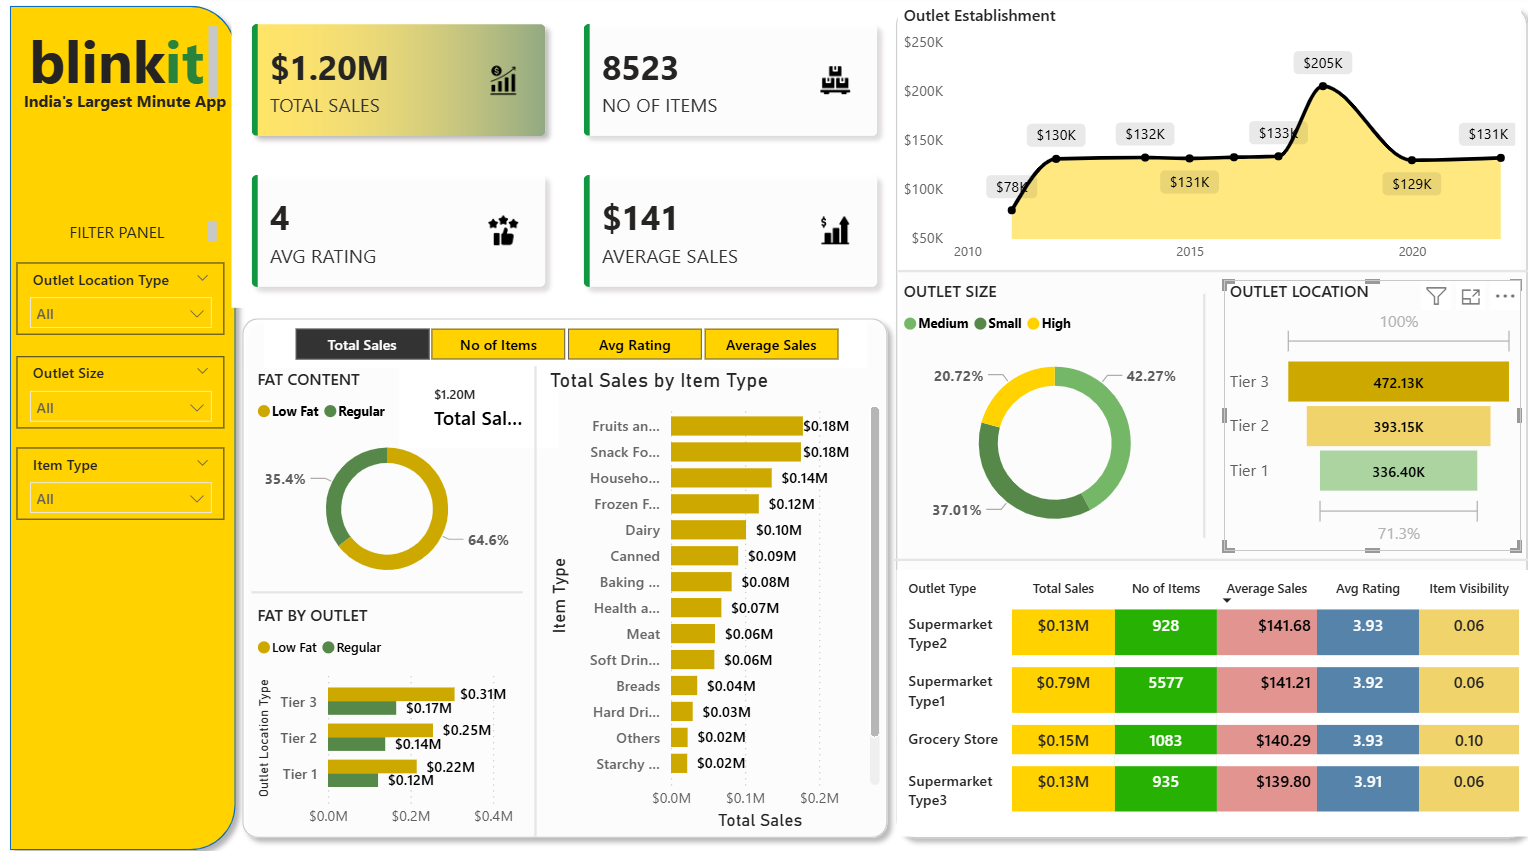

The page's visual inventory and layout, read from the dashboard file:
{"tool":"powerbi","page":{"name":"Page 1","canvas":[1280,720],"ordinal":0},"visuals":[{"type":"shape","box":[0,0,205.7,720],"z":0},{"type":"textbox","box":[20,18.6,167.1,71.4],"z":1000},{"type":"textbox","box":[15.7,74.3,190,31.4],"z":2000},{"type":"cardVisual","fields":{"Data":["BlinkIT Grocery Data.Total Sales","BlinkIT Grocery Data.No of Items","BlinkIT Grocery Data.Avg Rating","BlinkIT Grocery Data.Average Sales","BlinkIT Grocery Data.Total Sales"]},"box":[192.9,7.1,554.3,252.9],"z":3000},{"type":"shape","box":[192.9,260,554.3,450],"z":4000},{"type":"donutChart","title":"FAT CONTENT","fields":{"Y":["BlinkIT Grocery Data.Total Sales"],"Category":["BlinkIT Grocery Data.Item Fat Content"]},"box":[210,310,225.7,190],"z":5000},{"type":"slicer","fields":{"Values":["Metrics.Metrics"]},"box":[220,270,501.4,40],"z":6000},{"type":"cardVisual","fields":{"Data":["BlinkIT Grocery Data.Total Sales","BlinkIT Grocery Data.Total Sales"]},"box":[332.9,310,132.9,67.1],"z":7000},{"type":"clusteredBarChart","title":"FAT BY OUTLET","fields":{"Y":["BlinkIT Grocery Data.Total Sales"],"Category":["BlinkIT Grocery Data.Outlet Location Type"],"Series":["BlinkIT Grocery Data.Item Fat Content"]},"box":[210,505.7,234.3,194.3],"z":8000},{"type":"shape","box":[210,490,225.7,14.3],"z":9000},{"type":"shape","box":[440,308.6,12.9,391.4],"z":10000},{"type":"barChart","fields":{"Y":["BlinkIT Grocery Data.Total Sales"],"Category":["BlinkIT Grocery Data.Item Type"]},"box":[452.9,310,284.3,390],"z":11000},{"type":"shape","box":[737.1,0,542.9,710],"z":12000},{"type":"lineChart","title":" Outlet Establishment ","fields":{"Y":["BlinkIT Grocery Data.Total Sales"],"Category":["BlinkIT Grocery Data.Outlet Establishment Year"]},"box":[747.1,7.1,518.6,222.9],"z":13000},{"type":"shape","box":[747.1,222.9,527.1,14.3],"z":14000},{"type":"donutChart","title":"OUTLET SIZE","fields":{"Y":["BlinkIT Grocery Data.Total Sales"],"Category":["BlinkIT Grocery Data.Outlet Size"]},"box":[747.1,237.1,261.4,225.7],"z":15000},{"type":"shape","box":[995.7,248.6,12.9,202.9],"z":16000},{"type":"funnel","title":"OUTLET LOCATION","fields":{"Y":["Sum(BlinkIT Grocery Data.Sales)"],"Category":["BlinkIT Grocery Data.Outlet Location Type"]},"box":[1018.6,237.1,247.1,225.7],"z":17000},{"type":"shape","box":[744.3,462.9,527.1,14.3],"z":18000},{"type":"pivotTable","title":"OUTLET TYPE","fields":{"Values":["BlinkIT Grocery Data.Total Sales","BlinkIT Grocery Data.No of Items","BlinkIT Grocery Data.Average Sales","BlinkIT Grocery Data.Avg Rating","Avg(BlinkIT Grocery Data.Item Visibility)"],"Rows":["BlinkIT Grocery Data.Outlet Type"]},"box":[745.7,478.6,525.7,221.4],"z":19000},{"type":"slicer","fields":{"Values":["BlinkIT Grocery Data.Outlet Location Type"]},"box":[14.3,222.9,172.9,60],"z":19001},{"type":"slicer","fields":{"Values":["BlinkIT Grocery Data.Outlet Size"]},"box":[14.3,300,172.9,60],"z":19002},{"type":"slicer","fields":{"Values":["BlinkIT Grocery Data.Item Type"]},"box":[14.3,375.7,172.9,60],"z":19003},{"type":"textbox","box":[18.6,182.9,167.1,27.1],"z":19004}]}

Visuals, with their boxes in screenshot pixels (x1, y1, x2, y2), scaled from the page's 1280x720 canvas onto the 1528x851 screenshot:
shape: rect(0, 0, 246, 850)
textbox: rect(24, 22, 223, 106)
textbox: rect(19, 88, 246, 125)
cardVisual - BlinkIT Grocery Data.Total Sales x BlinkIT Grocery Data.No of Items: rect(230, 8, 892, 307)
shape: rect(230, 307, 892, 839)
"FAT CONTENT" donutChart: rect(251, 366, 520, 591)
slicer - Metrics.Metrics: rect(263, 319, 861, 366)
cardVisual - BlinkIT Grocery Data.Total Sales x BlinkIT Grocery Data.Total Sales: rect(397, 366, 556, 446)
"FAT BY OUTLET" clusteredBarChart: rect(251, 598, 530, 827)
shape: rect(251, 579, 520, 596)
shape: rect(525, 365, 541, 827)
barChart - BlinkIT Grocery Data.Total Sales x BlinkIT Grocery Data.Item Type: rect(541, 366, 880, 827)
shape: rect(880, 0, 1527, 839)
" Outlet Establishment " lineChart: rect(892, 8, 1511, 272)
shape: rect(892, 263, 1521, 280)
"OUTLET SIZE" donutChart: rect(892, 280, 1204, 547)
shape: rect(1189, 294, 1204, 534)
"OUTLET LOCATION" funnel: rect(1216, 280, 1511, 547)
shape: rect(889, 547, 1518, 564)
"OUTLET TYPE" pivotTable: rect(890, 566, 1518, 827)
slicer - BlinkIT Grocery Data.Outlet Location Type: rect(17, 263, 223, 334)
slicer - BlinkIT Grocery Data.Outlet Size: rect(17, 355, 223, 426)
slicer - BlinkIT Grocery Data.Item Type: rect(17, 444, 223, 515)
textbox: rect(22, 216, 222, 248)
